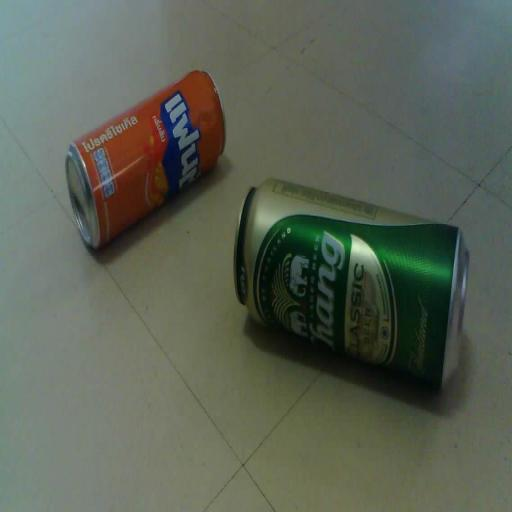canned: (222, 167, 478, 402), (50, 50, 230, 261)
